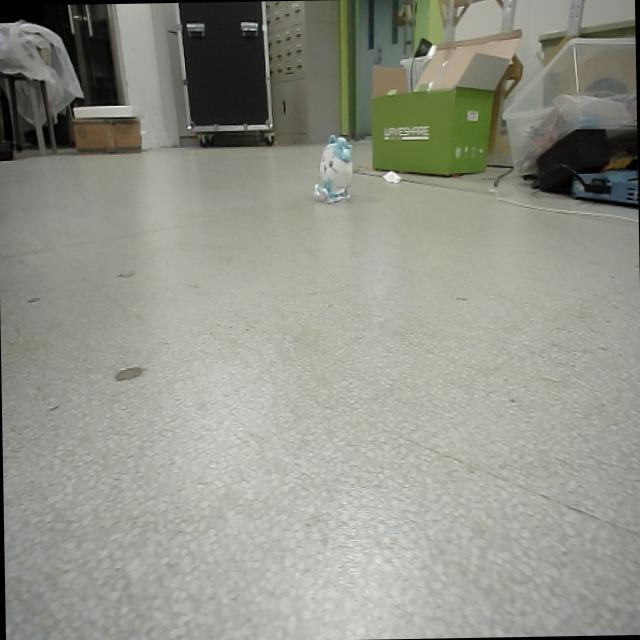xiaoba: (314, 132, 354, 206)
